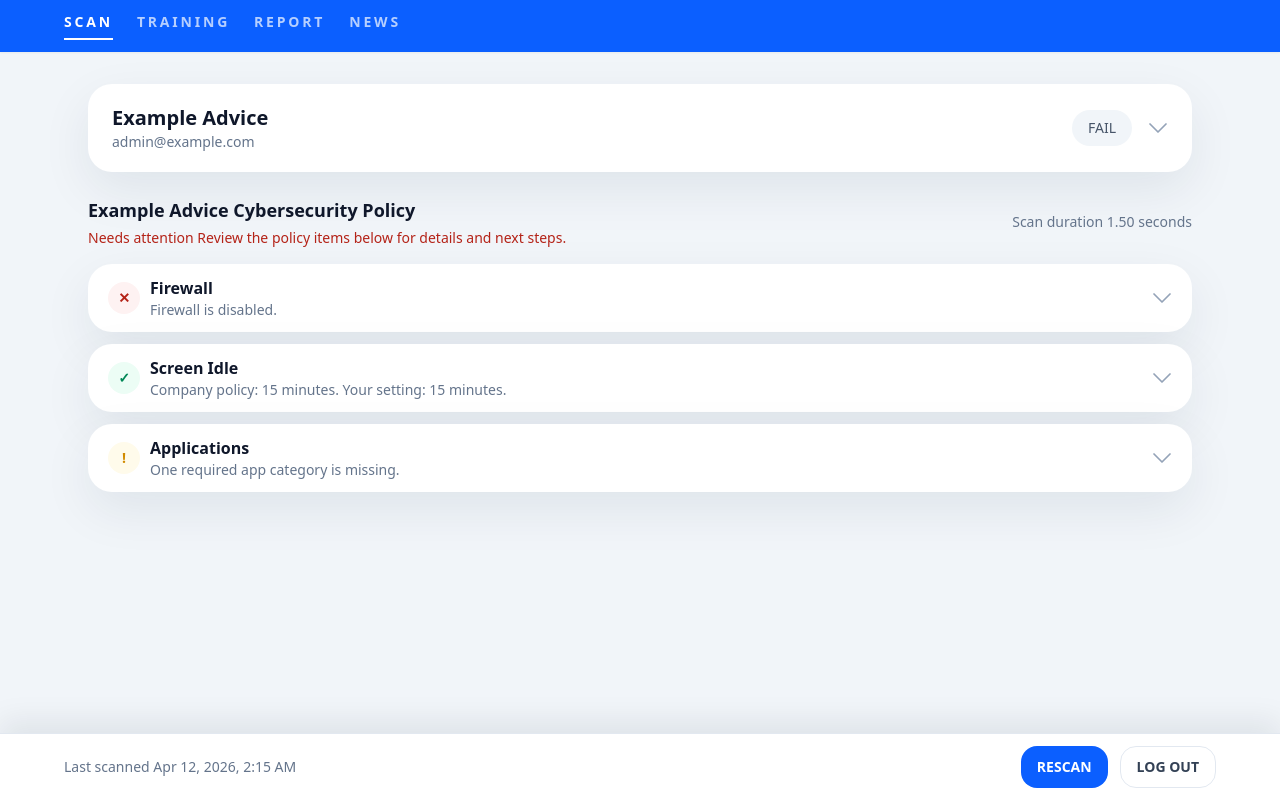
Test: renders company header compactly and expands details on click
Check: the text "admin@example.com" is shown, box [112,132,254,151]
Check: the text "Manufacturer" is not shown
Click the button "Example Advice admin@example.com FAIL" at (190, 118), box [88,84,1192,172]
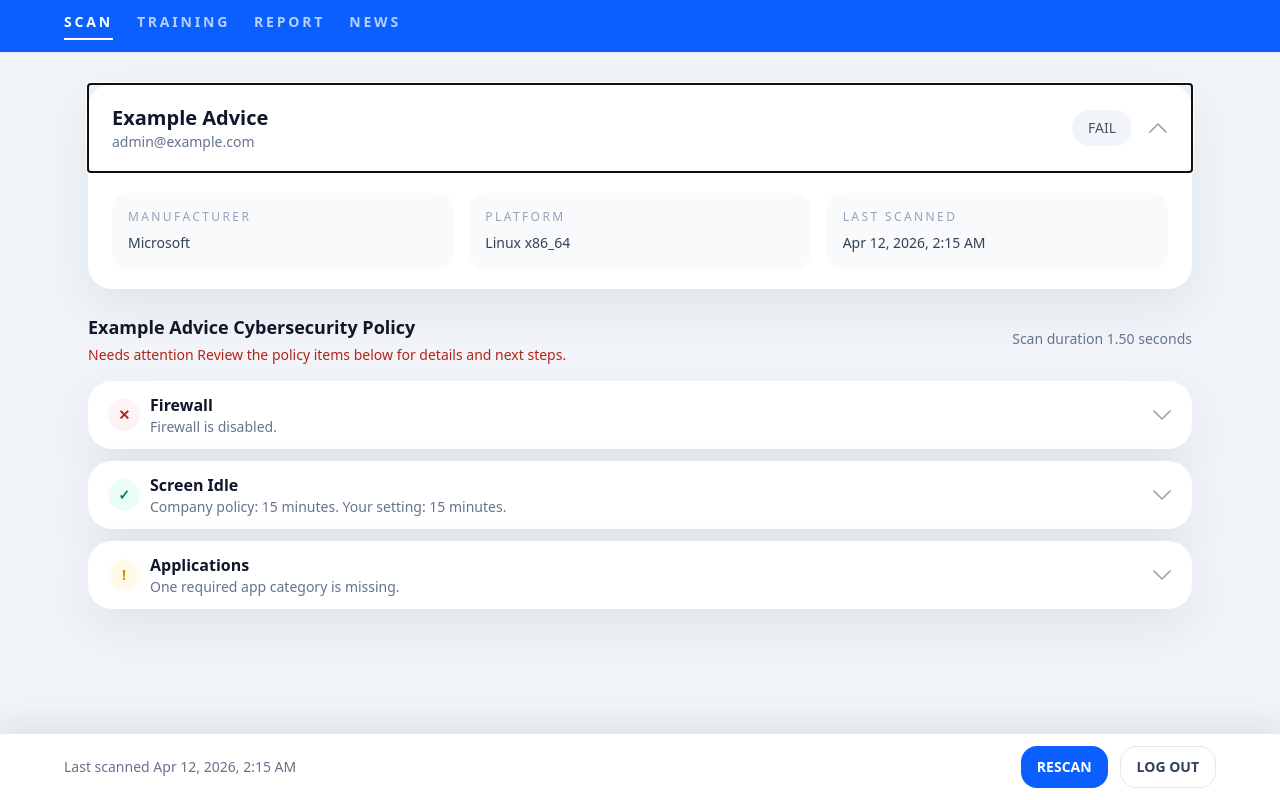
Check: the text "Manufacturer" is shown, box [128,208,251,225]
Check: the text "Platform" is shown, box [485,208,566,225]
Check: the text "Last scanned" is shown, box [843,208,957,225]
